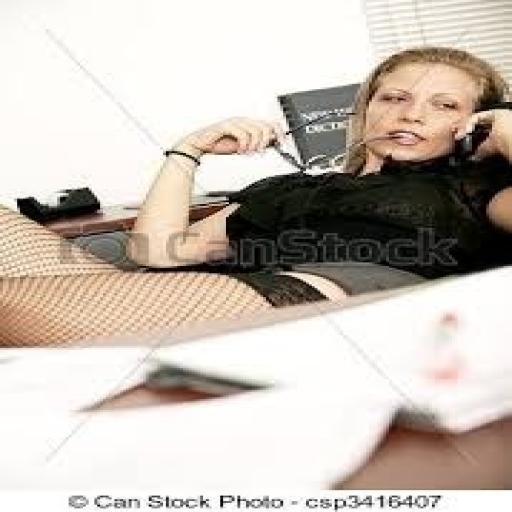calling: (0, 44, 509, 350)
